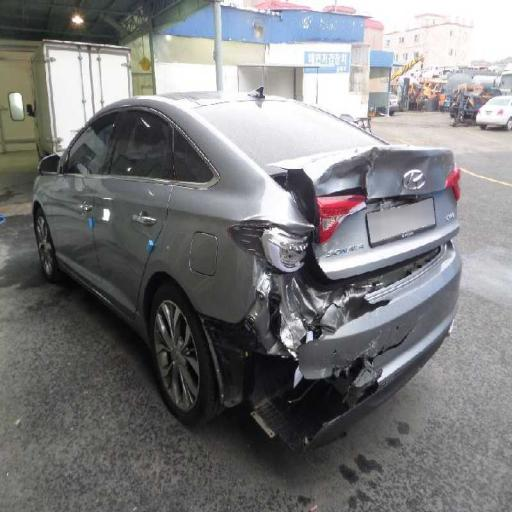broken: (224, 146, 430, 466)
